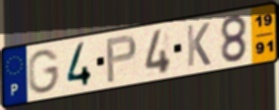4: (143, 27, 173, 77), (65, 40, 94, 89)
8: (219, 13, 249, 64)
G: (26, 48, 61, 96)
K: (185, 21, 212, 69)
P: (104, 33, 139, 85)
